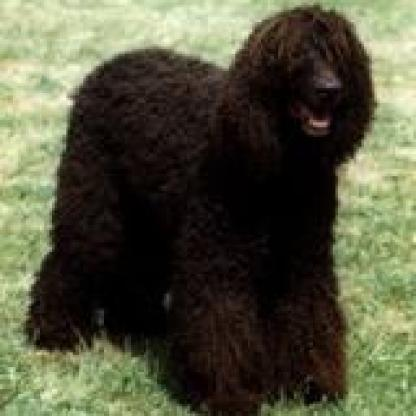Irish_water_spaniel: (13, 0, 385, 411)
